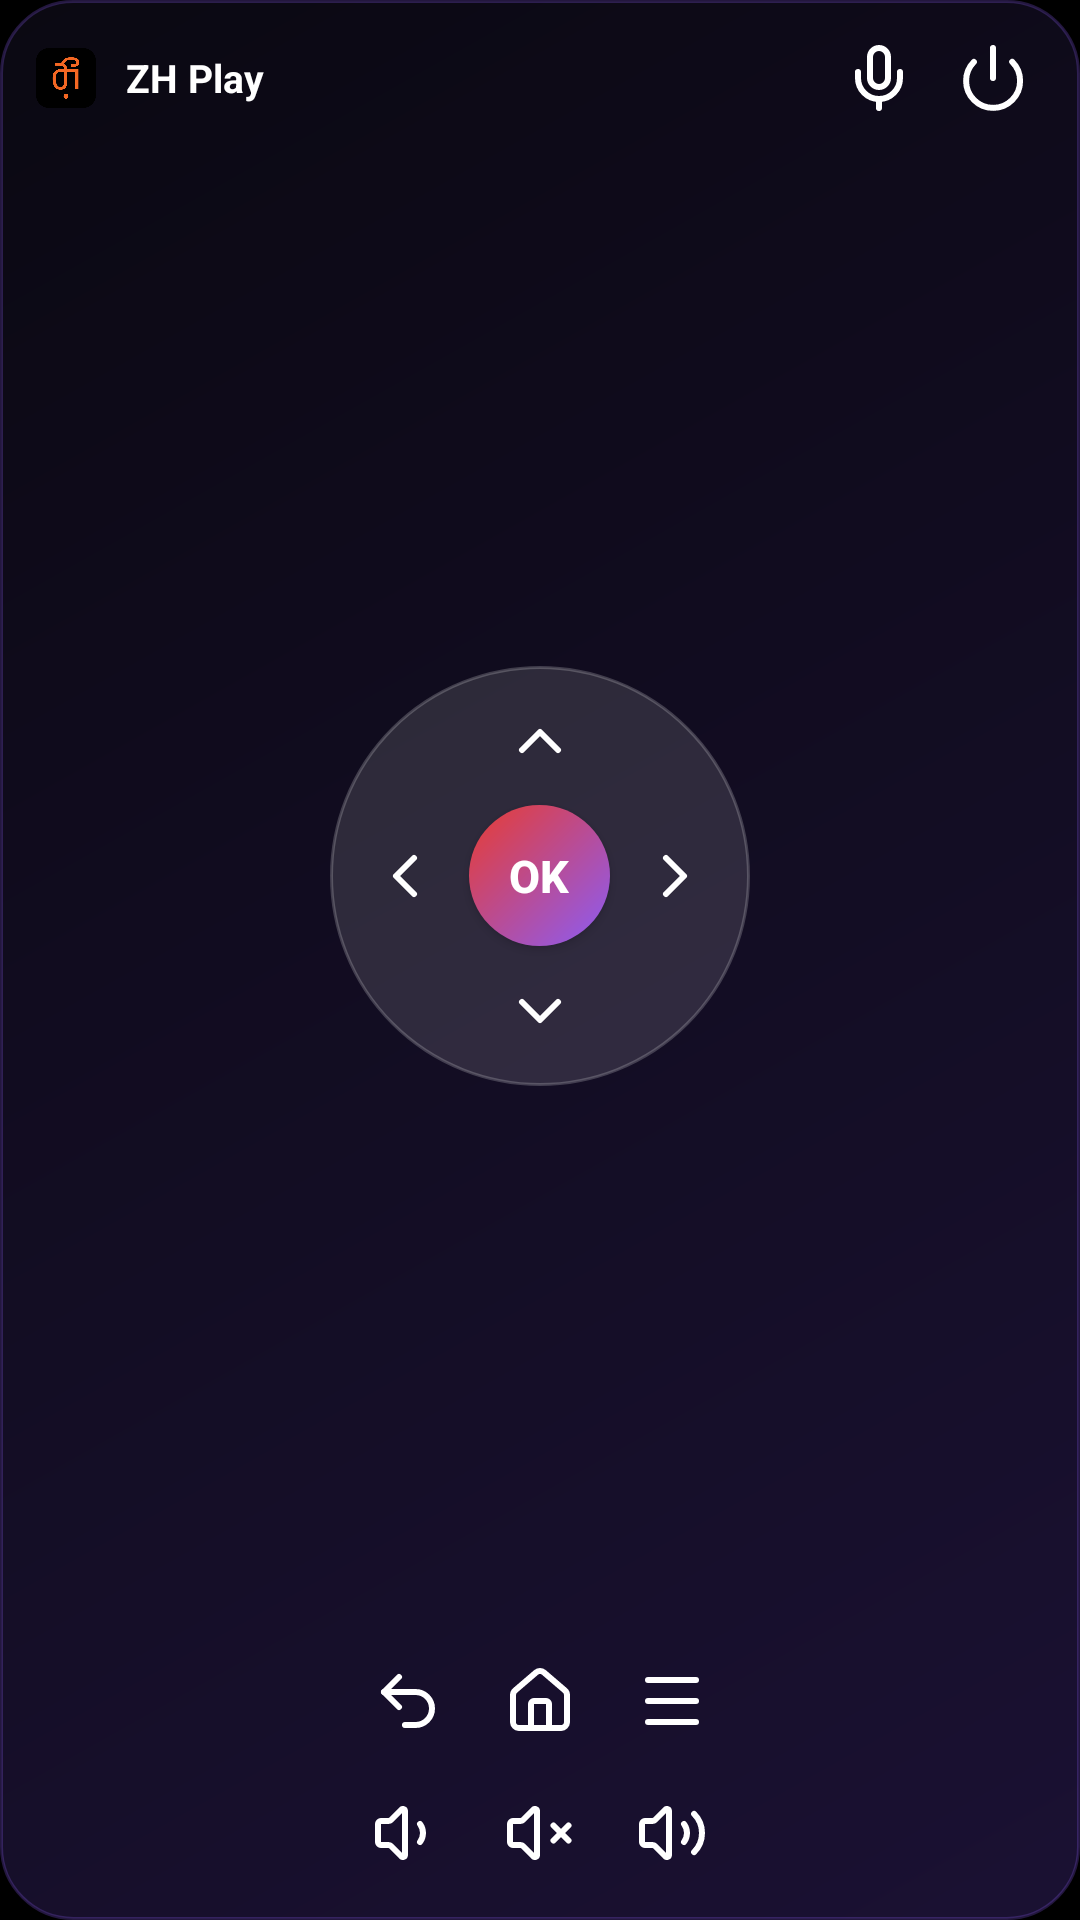

Screen size 1080w x 1920h. Icon name, then its box in pixels as (x1, y1, x2, y2):
Back: (381, 1674, 435, 1728)
Down: (519, 999, 561, 1023)
Home: (510, 1668, 570, 1731)
Left: (393, 855, 417, 897)
Menu: (645, 1677, 699, 1725)
Mute: (507, 1806, 572, 1860)
Power: (963, 45, 1023, 111)
Right: (663, 855, 687, 897)
Up: (519, 729, 561, 753)
Voice: (855, 45, 903, 111)
Volume down: (375, 1806, 426, 1860)
Volume up: (639, 1806, 705, 1860)
